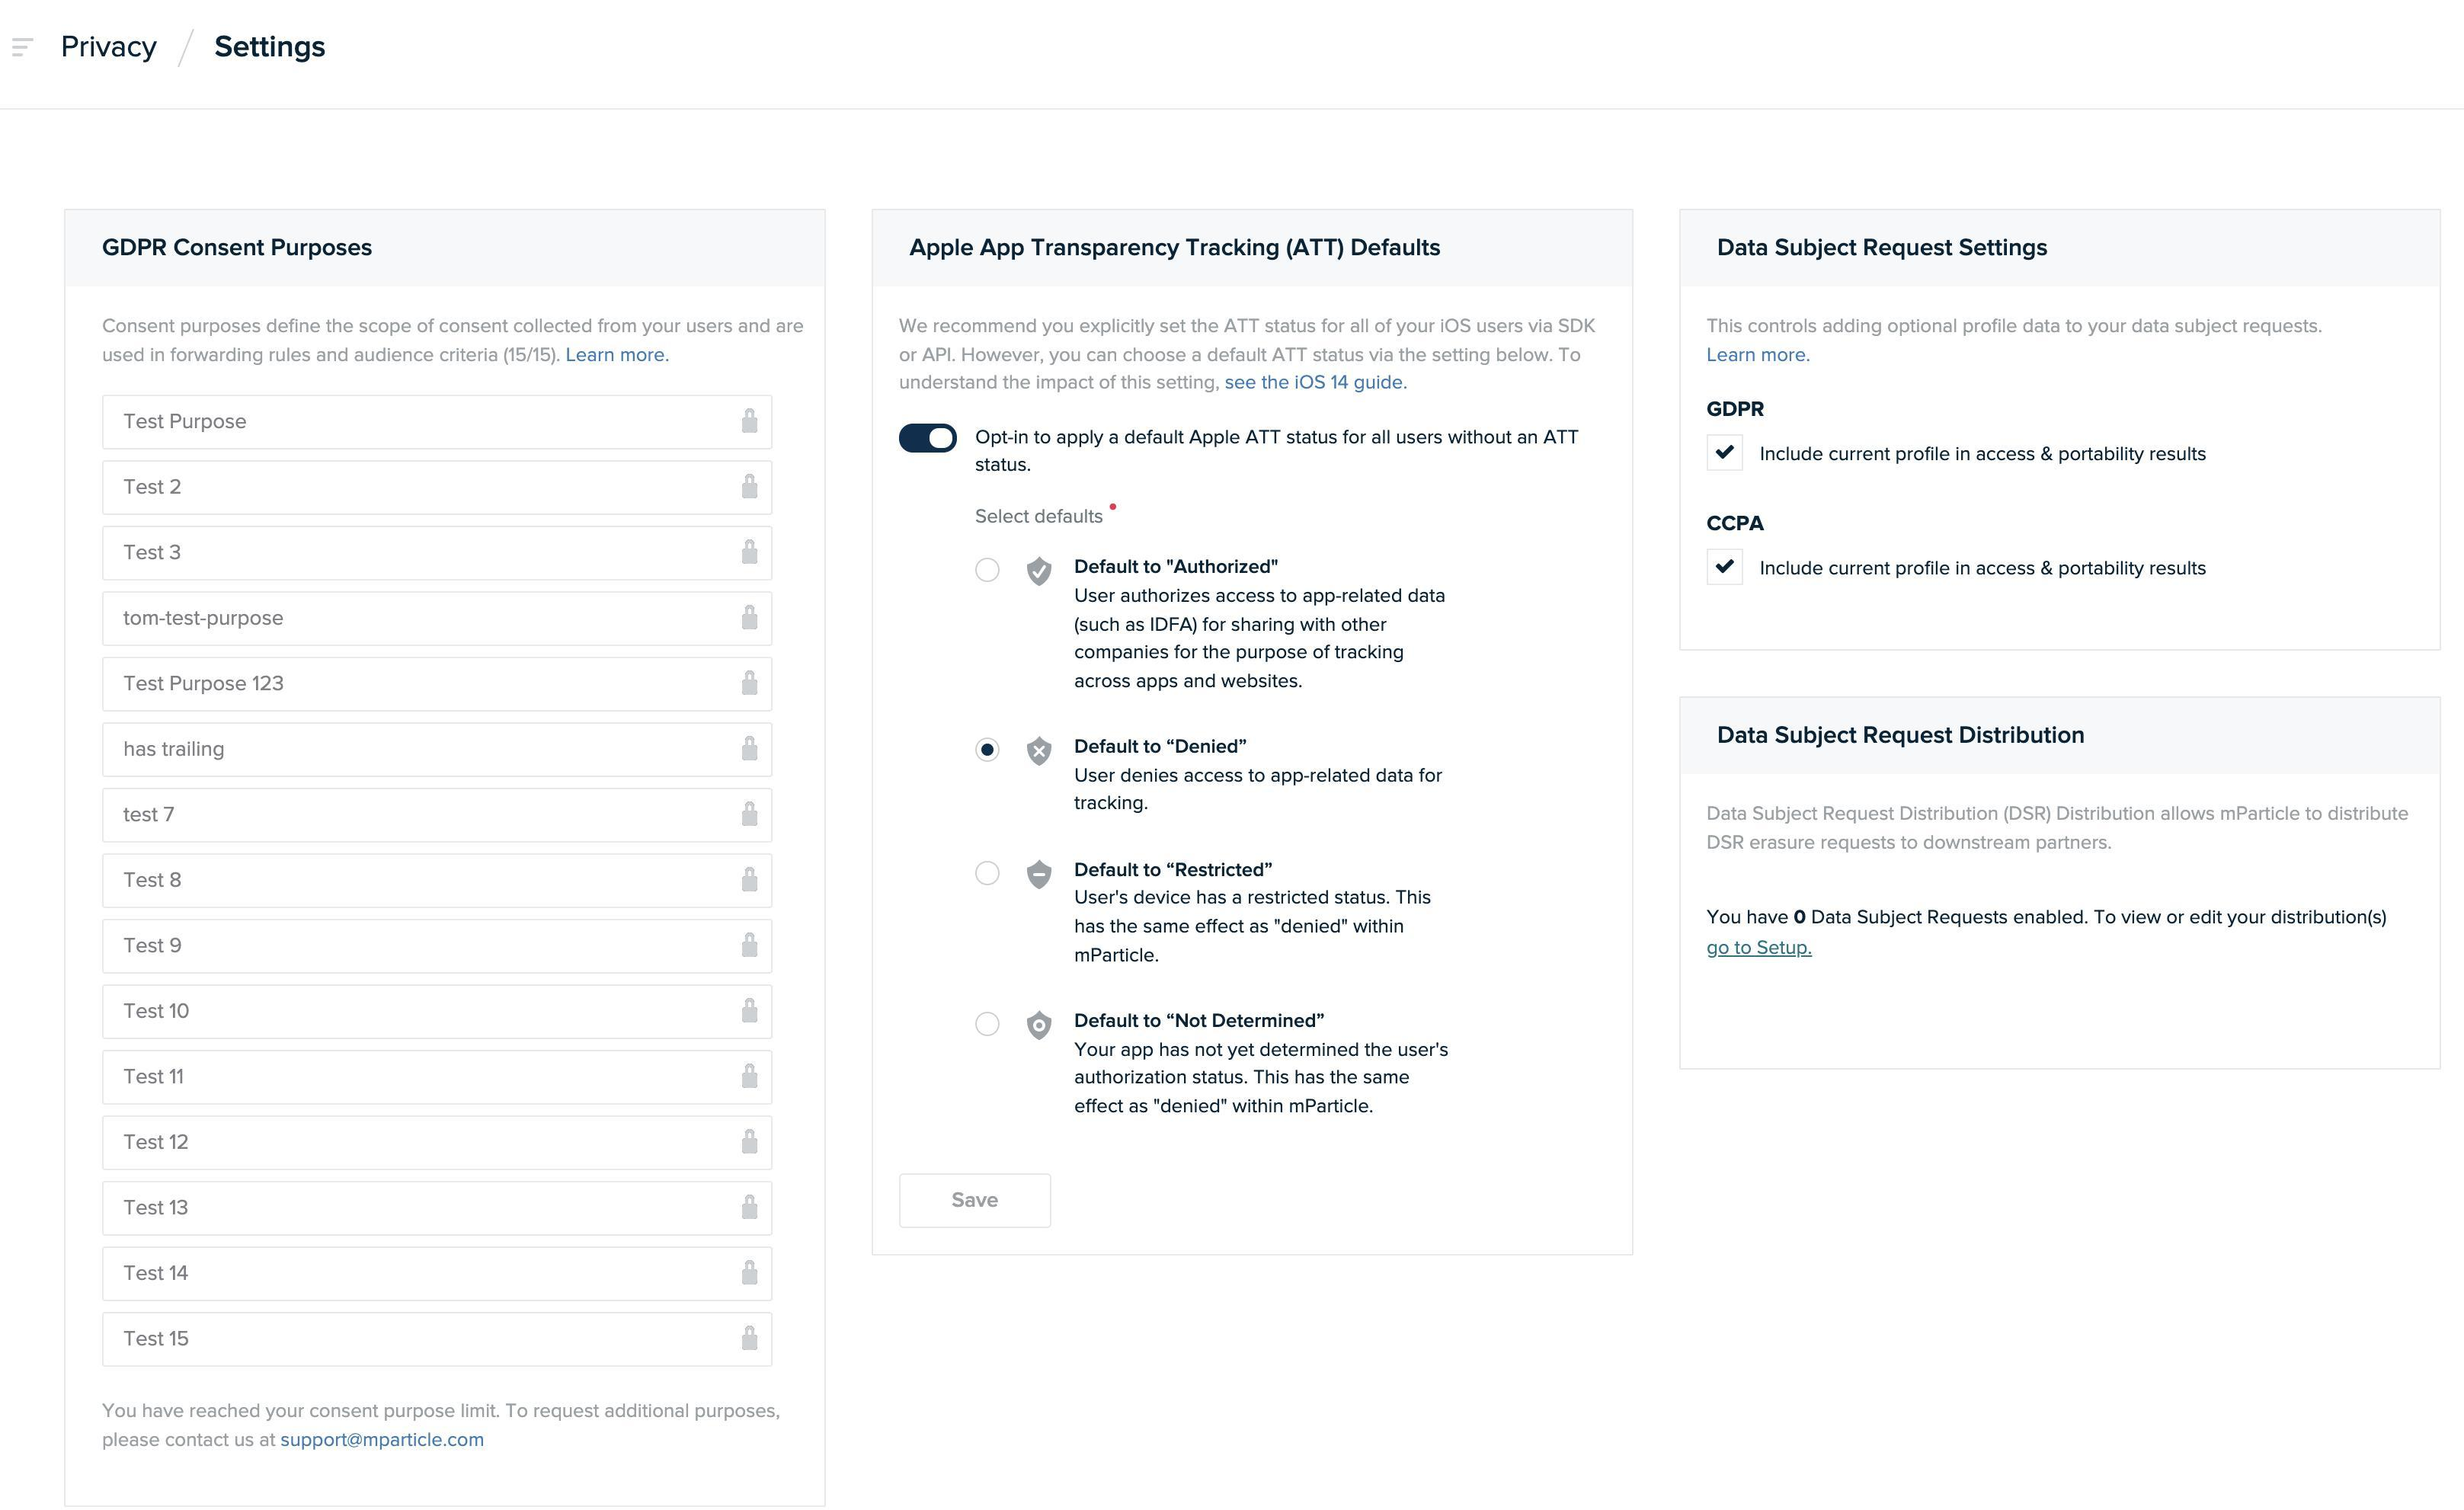button: (901, 1174, 1052, 1228)
checkbox: (1705, 549, 1744, 588), (1707, 436, 1744, 472)
icon: (1024, 554, 1060, 590), (732, 470, 764, 507), (1024, 736, 1056, 773), (737, 403, 767, 442), (1021, 1012, 1058, 1042), (1024, 859, 1056, 892), (737, 1059, 764, 1098), (736, 1320, 762, 1359), (736, 535, 764, 570), (736, 929, 764, 964), (739, 730, 764, 769), (737, 795, 762, 832), (739, 862, 764, 899), (737, 991, 762, 1026), (739, 1126, 764, 1162), (737, 1188, 760, 1225), (737, 602, 764, 634), (739, 667, 762, 702), (737, 1255, 760, 1288)
label: (1762, 445, 2211, 472), (1755, 558, 2214, 583), (121, 669, 287, 699), (118, 609, 290, 635), (120, 405, 252, 438), (121, 737, 229, 764), (123, 1258, 194, 1288), (120, 1323, 194, 1350), (118, 475, 195, 500), (118, 1063, 188, 1089), (120, 539, 181, 568), (118, 1000, 192, 1024), (120, 1132, 192, 1156), (121, 804, 187, 829), (121, 935, 187, 959), (121, 1197, 195, 1218), (123, 866, 183, 891)
radio: (973, 1007, 1003, 1044), (973, 558, 1005, 588), (975, 737, 1003, 766), (975, 861, 1000, 889)
switch: (899, 424, 959, 454)
